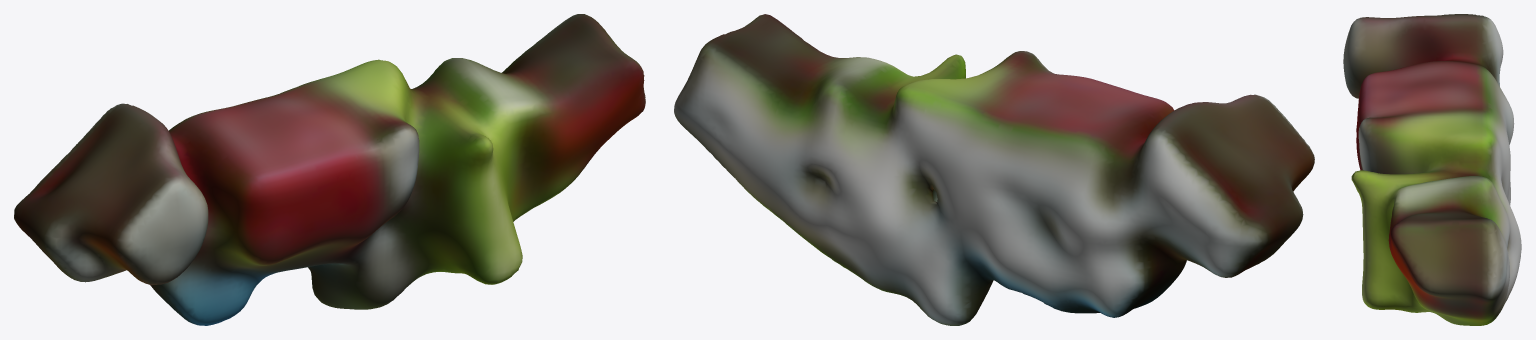
The model's file is blocks.glb.
The picture shows the model from 3 angles, left to right: view 1: azimuth 30°, elevation 25°; view 2: azimuth 150°, elevation 25°; view 3: azimuth 270°, elevation 25°; orthographic projection. The views are drawn at different scales.
Bounding box in the file's own units: 0.9988 × 0.3998 × 0.31.
